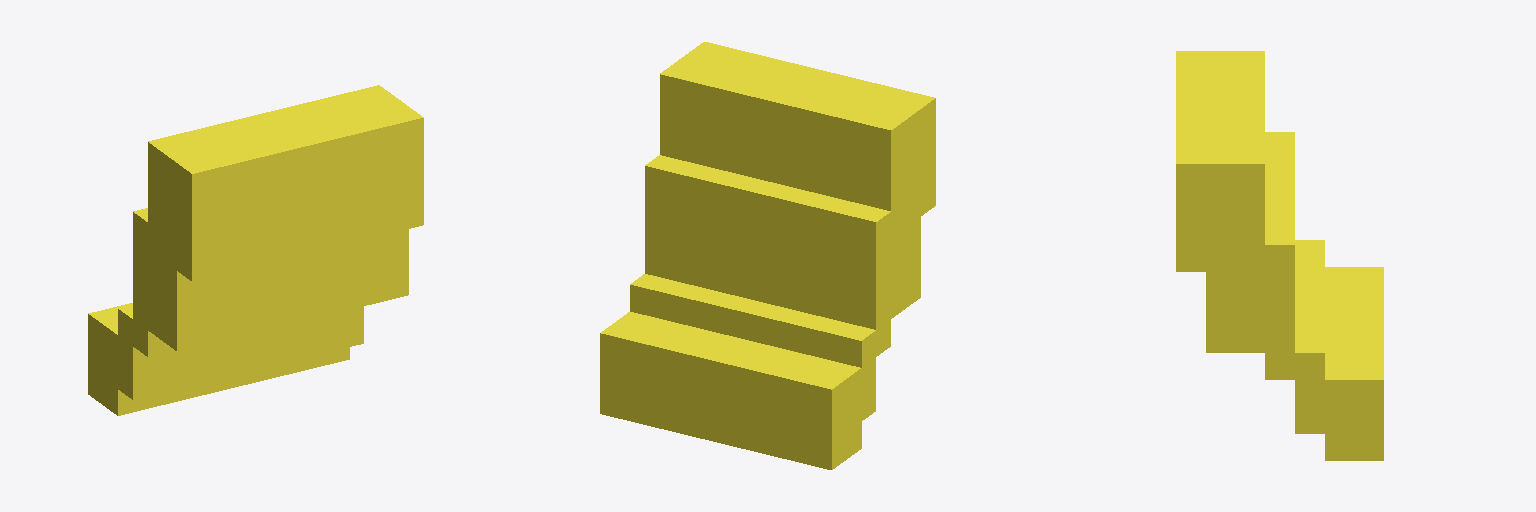
3 renders of one model, left to right at view 1: azimuth 30°, elevation 25°; view 2: azimuth 150°, elevation 25°; view 3: azimuth 270°, elevation 25°, orthographic.
Parts seen in each view (by area): view 1: ala1; view 2: ala1; view 3: ala1.
Boxes of the visible parts, x1,y1,x2,y2 form: ala1: [88, 85, 423, 415]; ala1: [600, 42, 935, 469]; ala1: [1176, 51, 1383, 460].
Bounding box in the file's own units: 3.31 × 4.05 × 2.58.
1 materials, 1 textured.